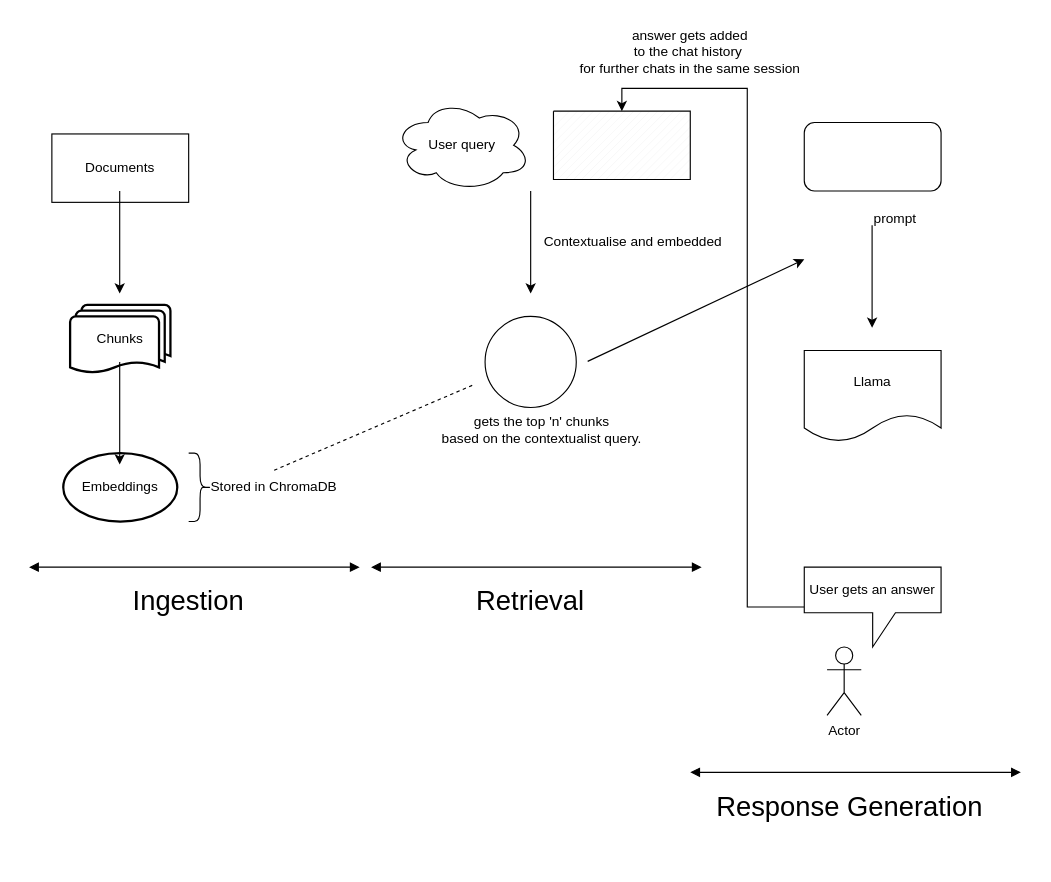
Some shapes in this 1051 by 882 pixel diagram are drawn without their labels. The centre of each missing label's shape, as x and y in pixels:
Chat History: (x=621, y=145)
n chunks + chat history: (x=872, y=156)
Semantic search: (x=530, y=361)
